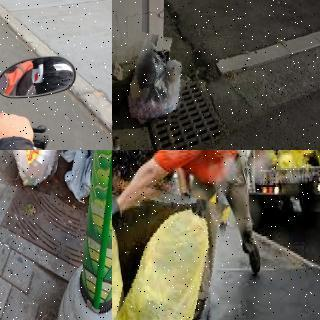Garbage: (118, 191, 222, 320), (123, 34, 190, 124), (112, 200, 141, 320), (0, 150, 65, 192)
